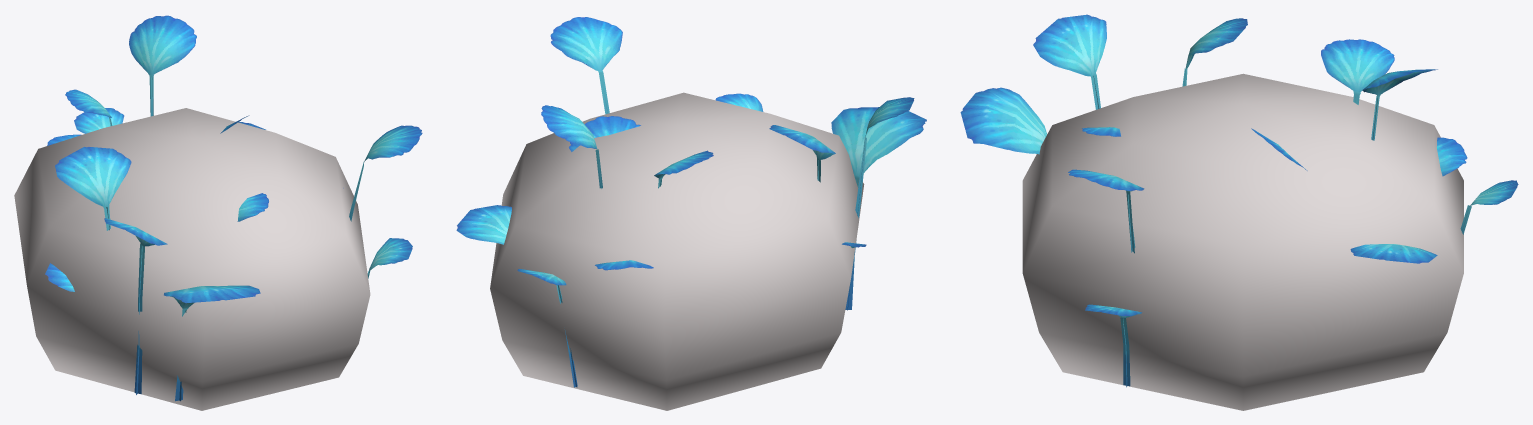
Rendered from Homeworld_Exterior_Dq_Plant_Flower_Fluorescence_02_Lod0.fbx.
3 views of the same model, side by side, from view 1: azimuth 30°, elevation 25°; view 2: azimuth 150°, elevation 25°; view 3: azimuth 270°, elevation 25° (orthographic). The views are drawn at different scales.
Visible parts, largest first — view 1: EffectMesh, Area_Dq_Grass_HZD_Bcc_01_Lod0; view 2: EffectMesh, Area_Dq_Grass_HZD_Bcc_01_Lod0; view 3: EffectMesh, Area_Dq_Grass_HZD_Bcc_01_Lod0.
Part boxes in pixels (box(x1,y1,x2,y2)): EffectMesh: box(14, 108, 370, 410); Area_Dq_Grass_HZD_Bcc_01_Lod0: box(45, 15, 422, 401); EffectMesh: box(490, 92, 864, 410); Area_Dq_Grass_HZD_Bcc_01_Lod0: box(456, 17, 926, 387); EffectMesh: box(1022, 73, 1463, 410); Area_Dq_Grass_HZD_Bcc_01_Lod0: box(960, 14, 1518, 387).
Size of the model in its own units: 2.29 by 1.71 by 2.79.
2 materials, 1 textured.
